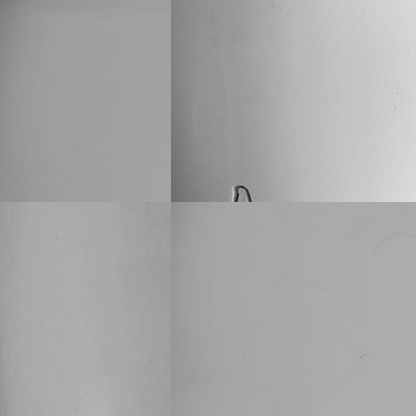fengxi: (227, 182, 258, 204)
